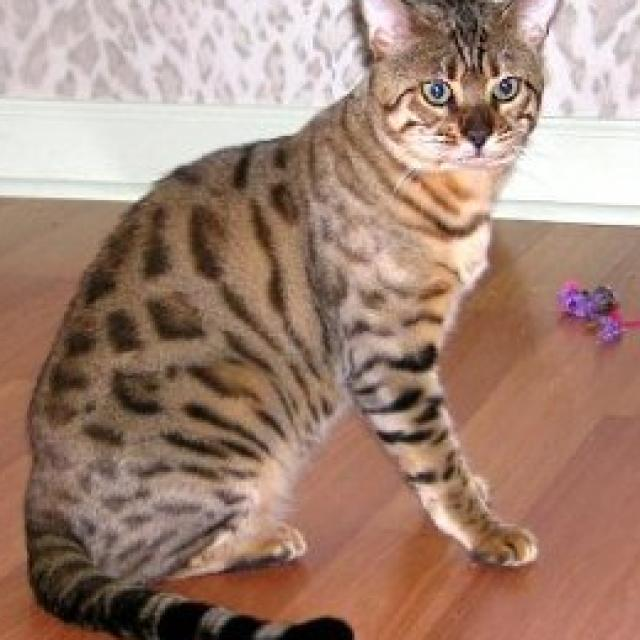Bengal: (17, 0, 576, 640)
